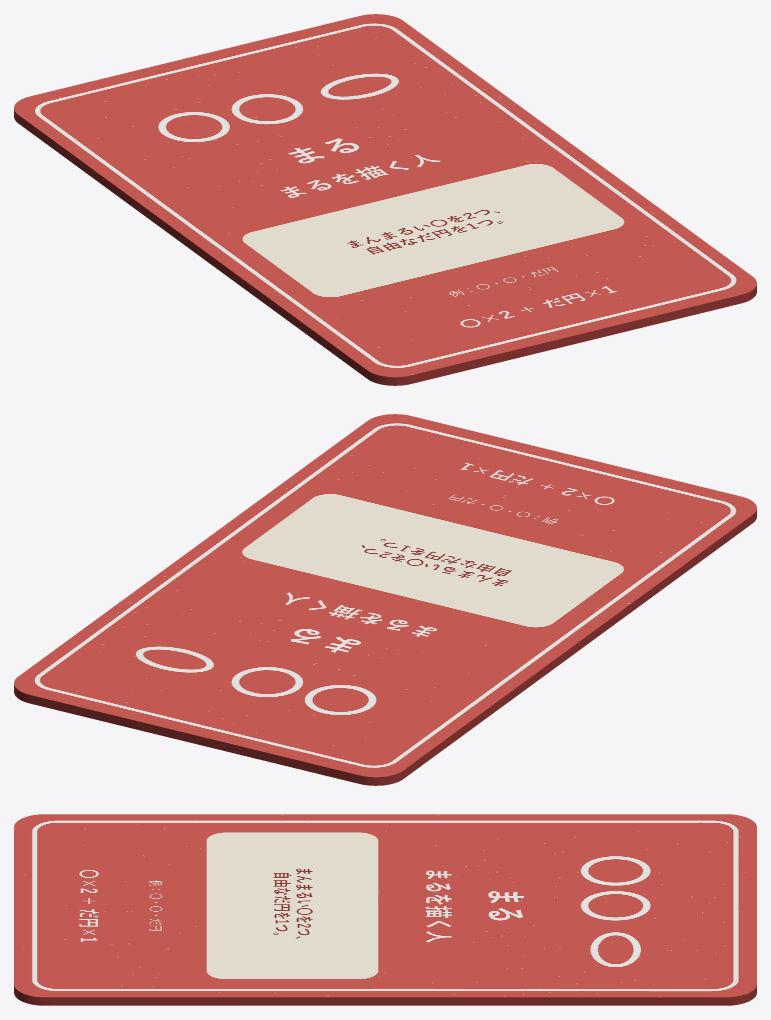
Rendered from role_circle.glb.
3 renders of one model, top to bottom at view 1: azimuth 30°, elevation 25°; view 2: azimuth 150°, elevation 25°; view 3: azimuth 270°, elevation 25°, orthographic. The views are drawn at different scales.
Visible parts, largest first — view 1: role_circle; view 2: role_circle; view 3: role_circle.
Boxes of the visible parts, x1=… form: role_circle: x1=14, y1=14, x2=756, y2=385; role_circle: x1=14, y1=414, x2=756, y2=785; role_circle: x1=14, y1=814, x2=756, y2=1005.
Size of the model in its own units: 0.07 by 0.0015 by 0.12.
Materials: 3 (2 with a texture image).
